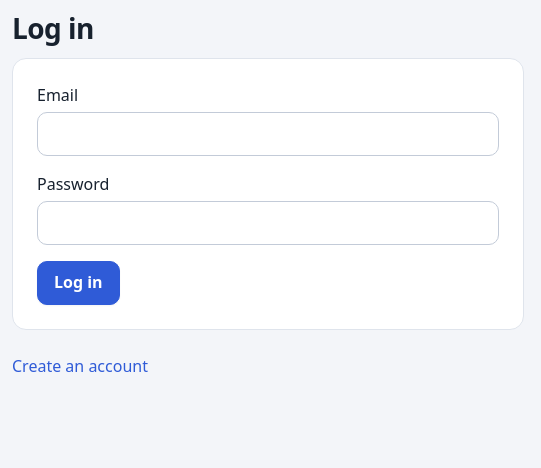
Test: authentication pages (phase 3 §4.2) › surfaces the API error when login fails and stays on the page
The width and height of the screenshot is (541, 468).
Type "dev@example.com" into the field labelled "Email".
click(268, 134); type("dev@example.com")  # box [37,112,499,156]
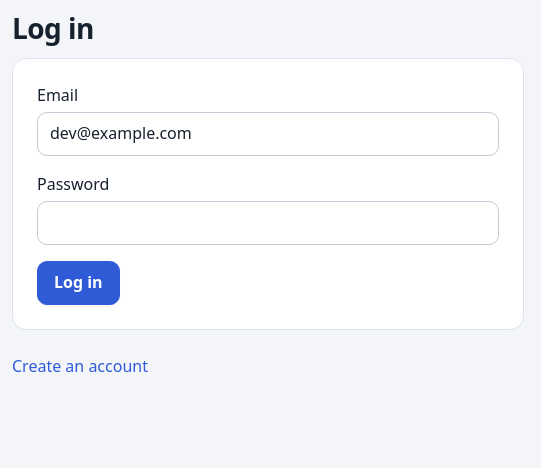
Type "wrong-password" into the password field labelled "Password".
click(268, 223); type("wrong-password")  # box [37,201,499,245]
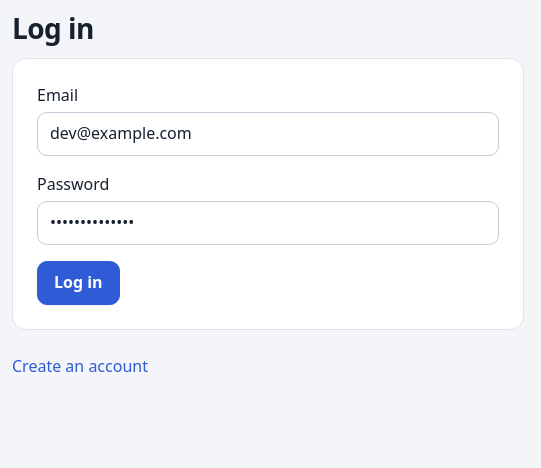
Click the button "Log in".
click(78, 283)  # box [37,261,120,305]
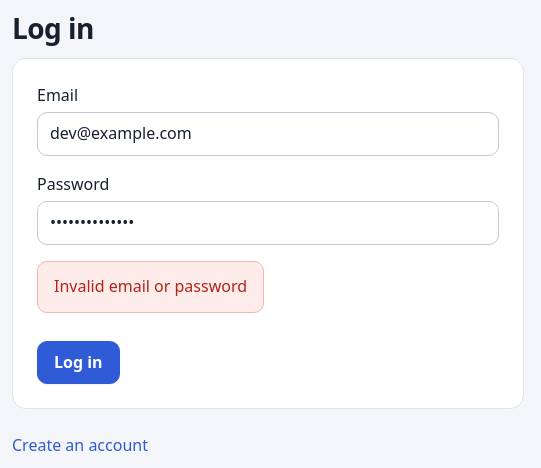
expect the button "Log in" is enabled: met, box [37,341,120,384]
expect the message "Invalid email or password" is shown: met, box [37,261,264,313]
expect the message reads "Invalid email or password": met, box [54,275,247,297]
